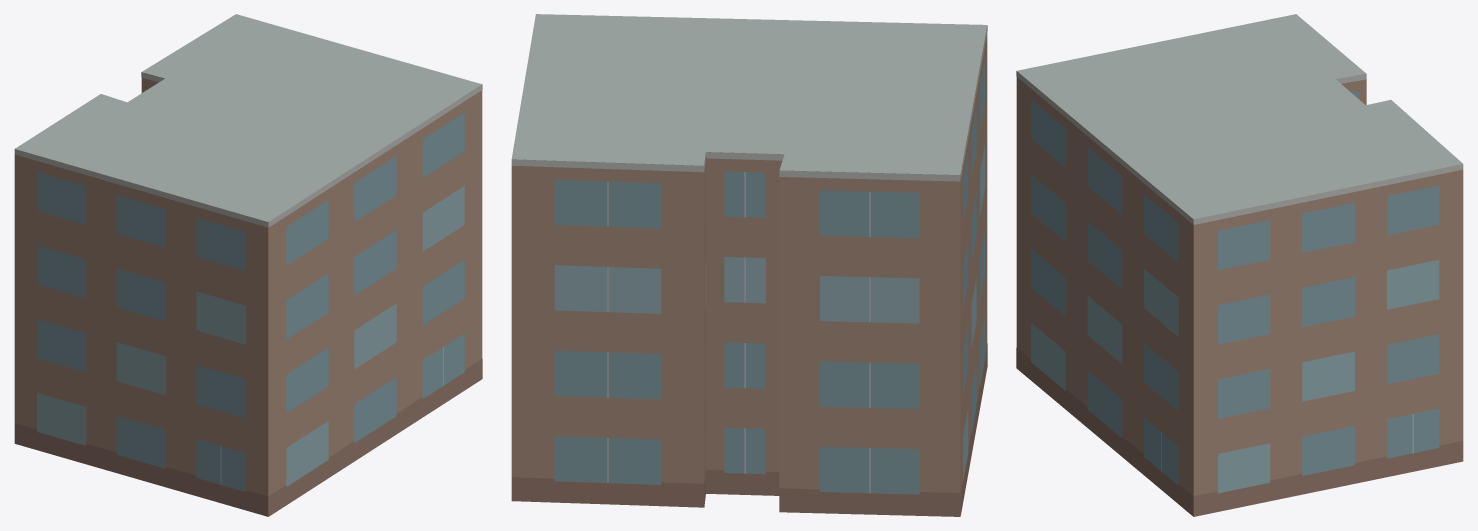
Rendered from survey-upis-33036710.glb.
The picture shows the model from 3 angles, left to right: view 1: azimuth 30°, elevation 25°; view 2: azimuth 150°, elevation 25°; view 3: azimuth 270°, elevation 25°; orthographic projection. The views are drawn at different scales.
Parts seen in each view (by area): view 1: survey-upis-33036710.tmp; view 2: survey-upis-33036710.tmp; view 3: survey-upis-33036710.tmp.
Part boxes in pixels (<box>): survey-upis-33036710.tmp: <box>14,14,482,516</box>; survey-upis-33036710.tmp: <box>511,14,987,516</box>; survey-upis-33036710.tmp: <box>1016,14,1463,516</box>.
Bounding box in the file's own units: 19.11 × 12.9 × 17.57.
